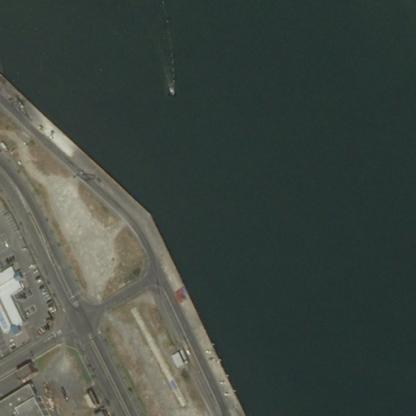ship: (162, 80, 178, 98)
